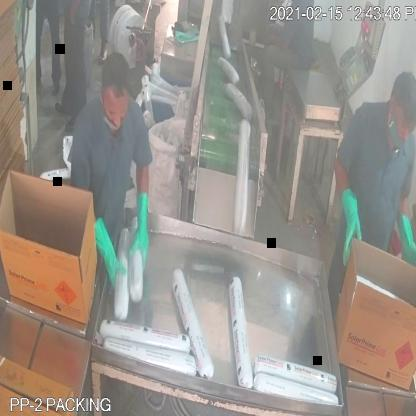glove: (87, 207, 129, 296), (334, 174, 364, 270), (129, 184, 153, 280), (397, 197, 416, 280)
no_glove: (263, 28, 294, 60)
